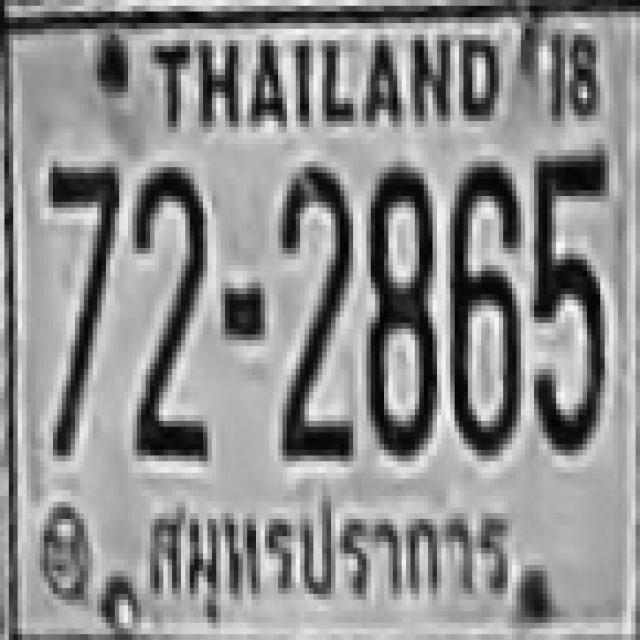2: (276, 162, 351, 426), (130, 164, 205, 424), (132, 210, 208, 452), (128, 162, 203, 404), (276, 214, 351, 456), (278, 162, 349, 404)
5: (530, 147, 604, 320)
6: (446, 158, 516, 452)
7: (44, 162, 119, 404), (46, 161, 117, 352), (44, 162, 115, 328)
8: (362, 164, 432, 453)
SamutPrakan: (133, 488, 514, 618)
